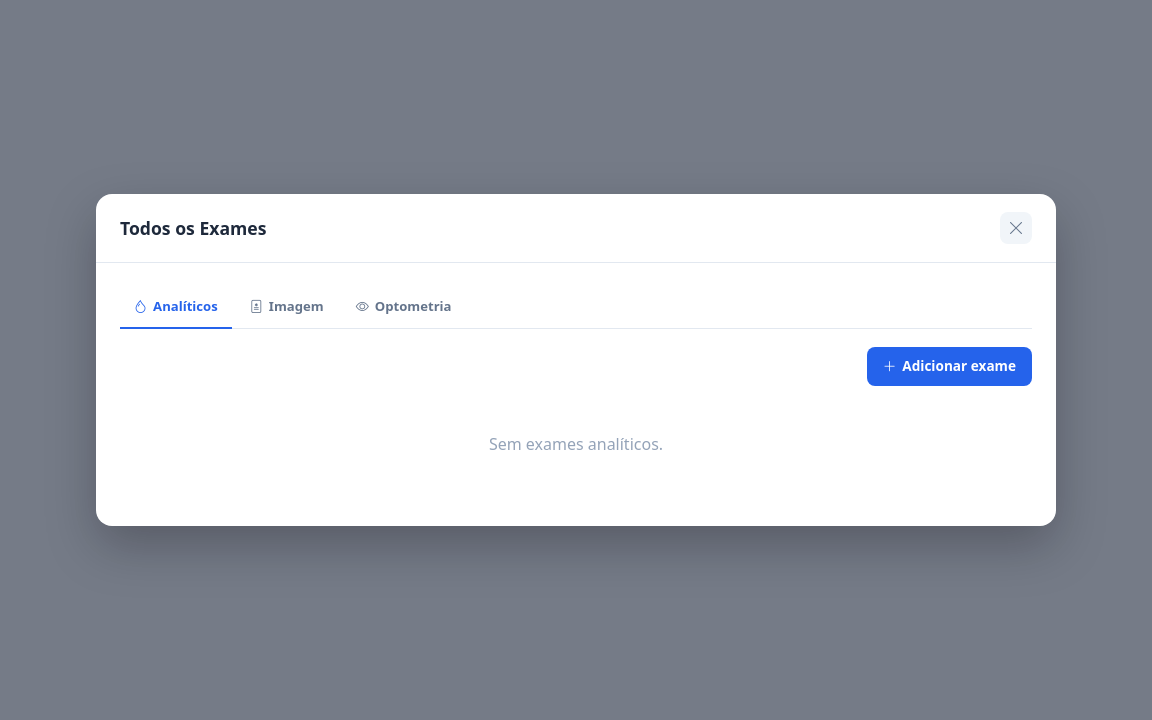
Test: ExamesModal › switches to the imaging tab and lists imaging exams
The image size is (1152, 720).
Expected: the text "Sem exames analíticos." is shown, top-left (489, 432), bottom-right (663, 454)
Click the button "Imagem".
click(287, 308)  # box top-left (236, 288), bottom-right (338, 329)
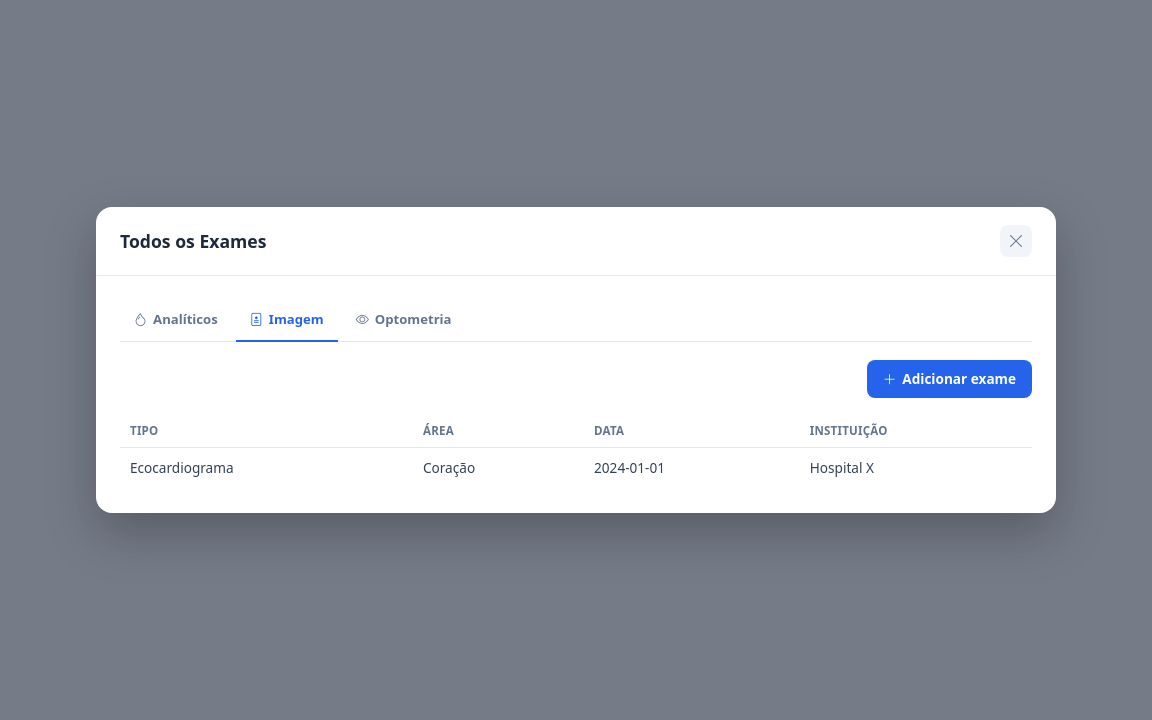
Expected: the text "Ecocardiograma" is shown, top-left (120, 448), bottom-right (413, 489)
